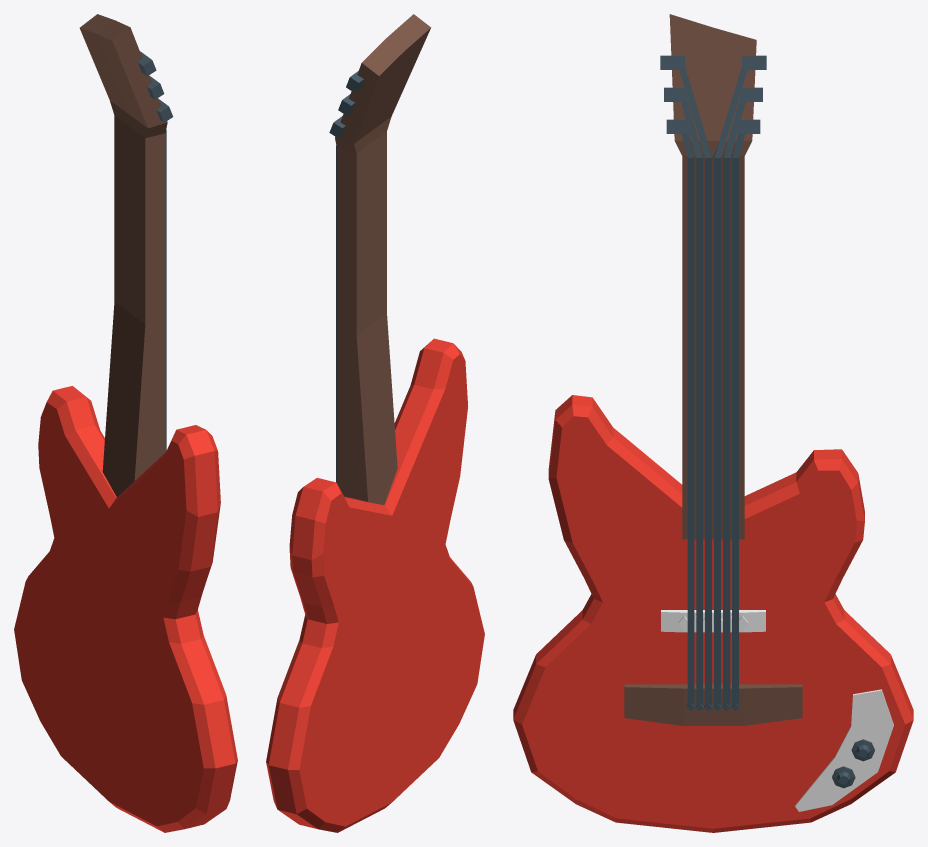
Rendered from Electric guitar.glb.
3 views of the same model, side by side, from view 1: azimuth 30°, elevation 25°; view 2: azimuth 150°, elevation 25°; view 3: azimuth 270°, elevation 25° (orthographic). The views are drawn at different scales.
Parts seen in each view (by area): view 1: Electric_Guitar_Cube.035; view 2: Electric_Guitar_Cube.035; view 3: Electric_Guitar_Cube.035.
Boxes of the visible parts, x1,y1,x2,y2 form: Electric_Guitar_Cube.035: (14,14,237,832); Electric_Guitar_Cube.035: (266,14,484,832); Electric_Guitar_Cube.035: (513,14,913,832).
Bounding box in the file's own units: 1.82 × 21.6 × 9.73.
